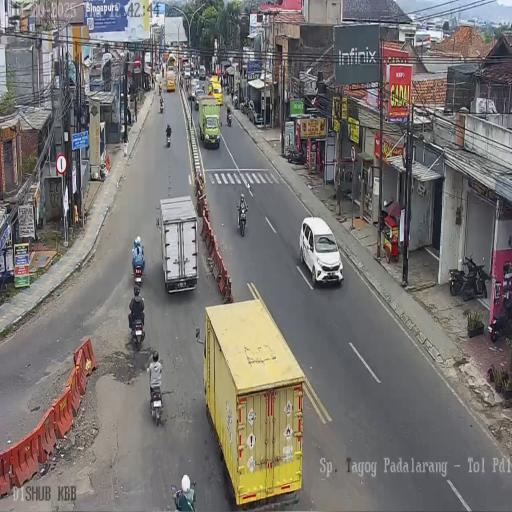3: (202, 299, 304, 508), (158, 198, 198, 295), (198, 97, 221, 150), (167, 53, 177, 73), (144, 52, 151, 72)
car: (299, 217, 342, 286), (208, 76, 223, 105), (190, 78, 200, 106), (166, 69, 175, 92), (199, 65, 206, 80), (184, 66, 191, 79)
truck: (462, 253, 490, 302), (489, 290, 512, 344), (147, 370, 164, 426), (130, 304, 146, 349), (449, 268, 467, 298), (132, 254, 145, 290), (285, 144, 303, 165), (238, 203, 248, 237), (240, 98, 250, 116), (166, 127, 172, 147), (232, 92, 238, 110), (227, 108, 232, 126), (159, 96, 164, 113), (192, 68, 199, 78), (158, 81, 162, 95), (185, 77, 189, 91)
